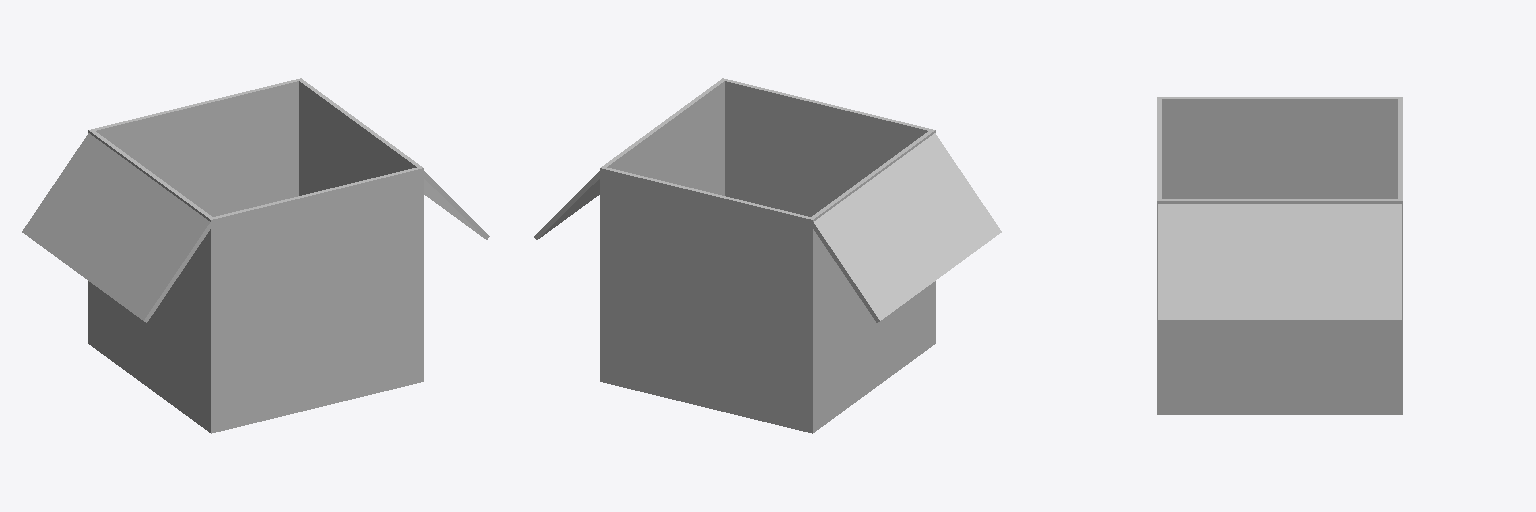
The model's file is tiny box open.obj.
3 views of the same model, side by side, from view 1: azimuth 30°, elevation 25°; view 2: azimuth 150°, elevation 25°; view 3: azimuth 270°, elevation 25° (orthographic).
Parts seen in each view (by area): view 1: Open_tiny_box; view 2: Open_tiny_box; view 3: Open_tiny_box.
Part boxes in pixels (bbox=[...]): Open_tiny_box: bbox=[22, 78, 489, 433]; Open_tiny_box: bbox=[534, 78, 1001, 433]; Open_tiny_box: bbox=[1157, 97, 1402, 414].
Size of the model in its own units: 32.79 by 19.32 by 20.14.